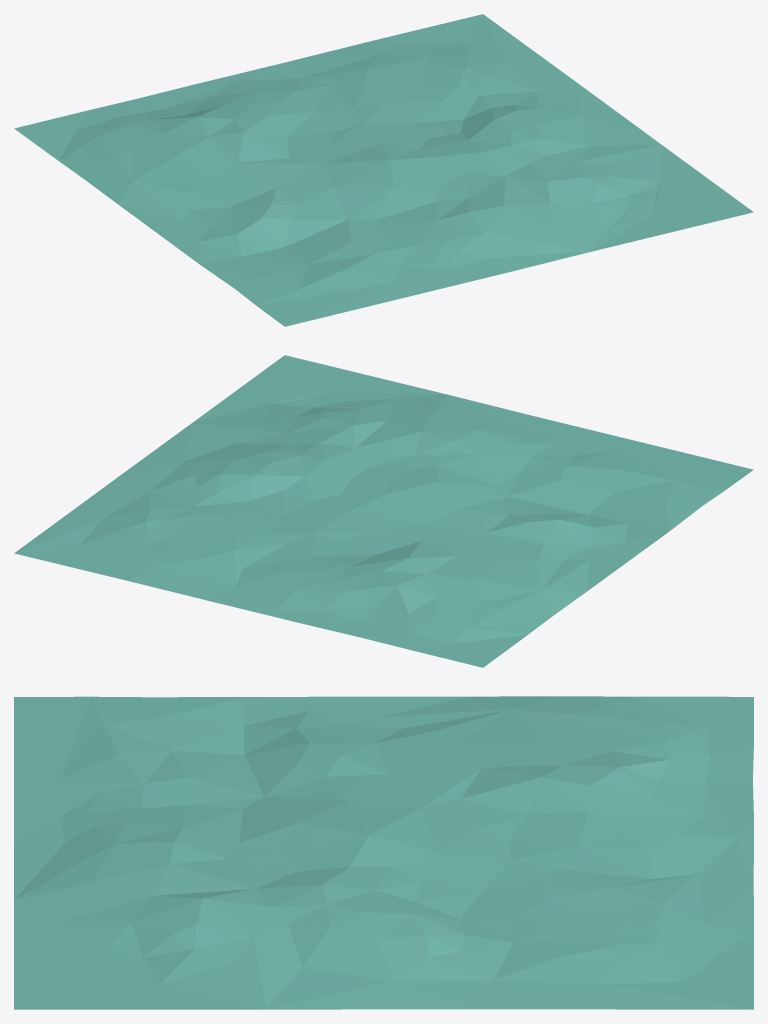
The model's file is Water_01.fbx.
3 views of the same model, one above another, from view 1: azimuth 30°, elevation 25°; view 2: azimuth 150°, elevation 25°; view 3: azimuth 270°, elevation 25° (orthographic). The views are drawn at different scales.
Parts seen in each view (by area): view 1: Water_01; view 2: Water_01; view 3: Water_01.
Part boxes in pixels (<box>): Water_01: <box>14,14,753,326</box>; Water_01: <box>14,355,753,667</box>; Water_01: <box>14,696,753,1009</box>.
Size of the model in its own units: 94.22 by 3.62 by 94.23.
